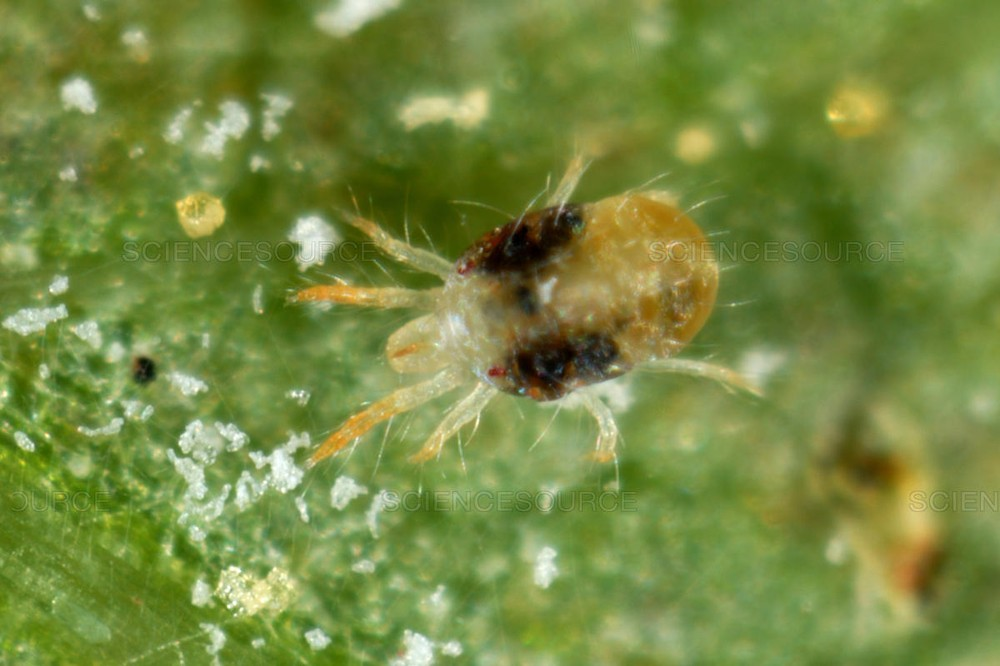Aracnido Rojo: (293, 158, 779, 489)
